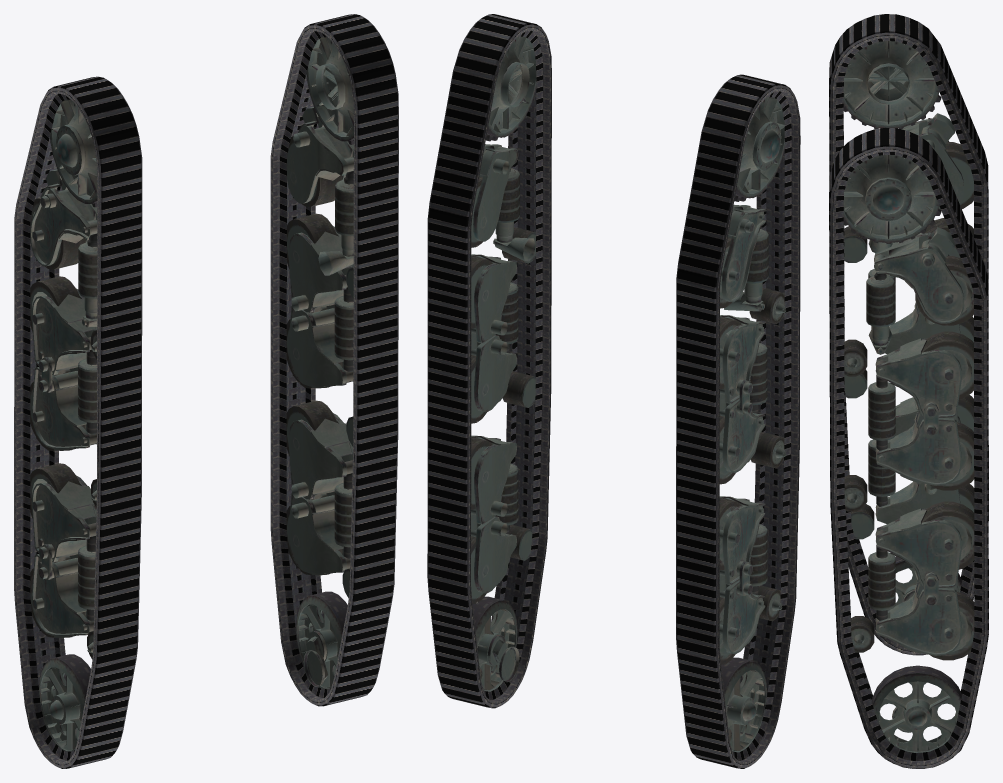
The model's file is Chassis.glb.
The picture shows the model from 3 angles, left to right: view 1: azimuth 30°, elevation 25°; view 2: azimuth 150°, elevation 25°; view 3: azimuth 270°, elevation 25°; orthographic projection. The views are drawn at different scales.
Visible parts, largest first — view 1: set_0_group_0, set_1_group_0, set_2_group_0, set_3_group_0; view 2: set_0_group_0, set_1_group_0, set_3_group_0, set_2_group_0; view 3: set_2_group_0, set_0_group_0, set_3_group_0, set_1_group_0.
Boxes of the visible parts, x1,y1,x2,y2 form: set_0_group_0: (270,14,398,706); set_1_group_0: (14,76,142,768); set_2_group_0: (286,37,353,689); set_3_group_0: (30,99,97,751); set_0_group_0: (427,14,551,708); set_1_group_0: (676,74,800,768); set_3_group_0: (719,97,785,752); set_2_group_0: (471,36,536,691); set_2_group_0: (843,155,974,752); set_0_group_0: (829,127,988,768); set_3_group_0: (843,41,974,610); set_1_group_0: (829,14,988,655).
Size of the model in its own units: 1.89 by 4.03 by 0.9355.
4 materials, 4 textured.
